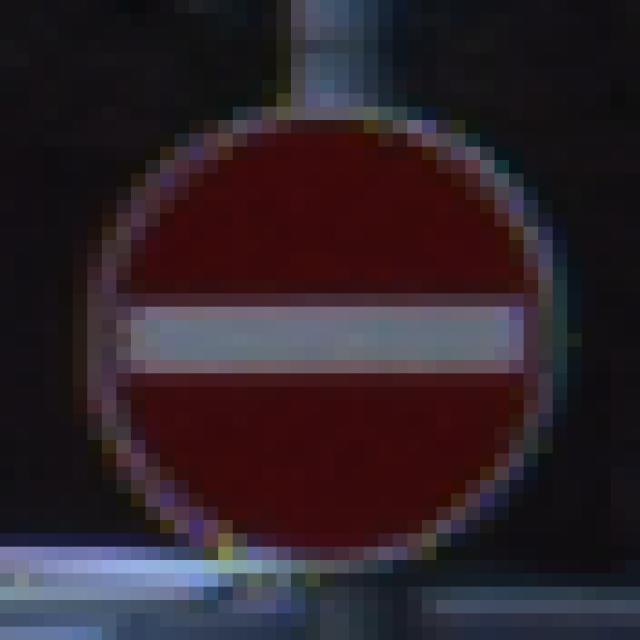No Entry: (74, 81, 568, 574)
